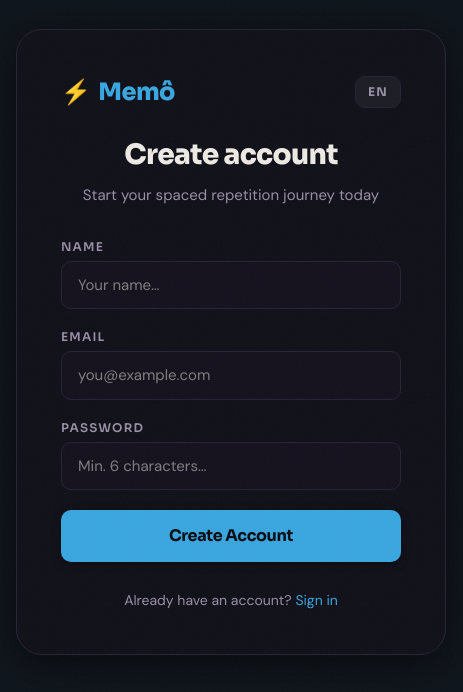
RegisterPage › shows email validation error for invalid email
Type "John" into the field labelled "Name" at point(231, 285), box [61, 260, 401, 309]
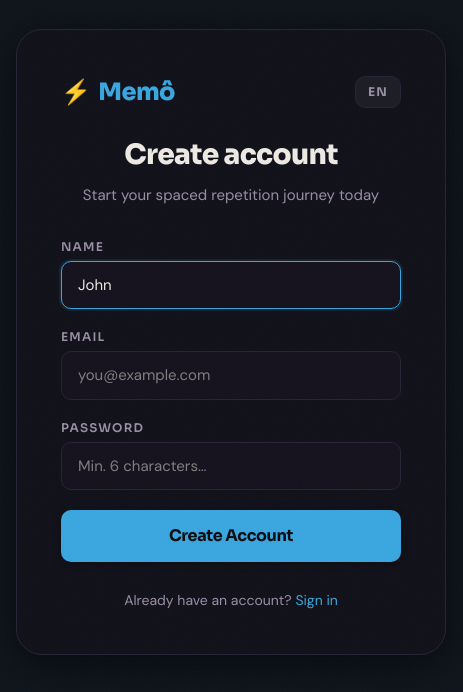
Type "bad-email" into the field labelled "Email" at point(231, 375), box [61, 351, 401, 400]
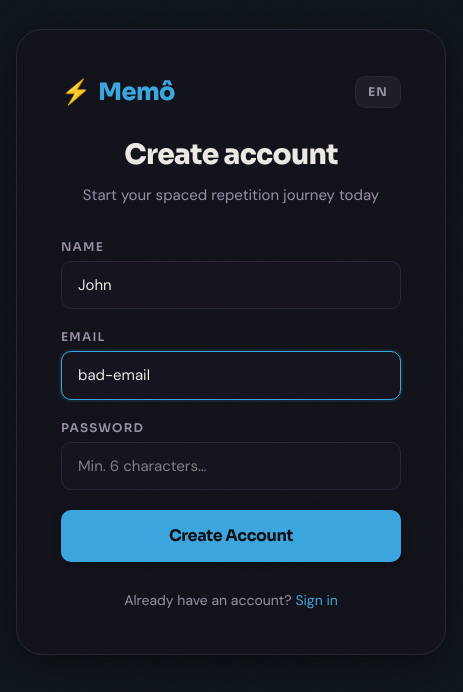
Type "123456" into the password field labelled "Password" at point(231, 466), box [61, 442, 401, 490]
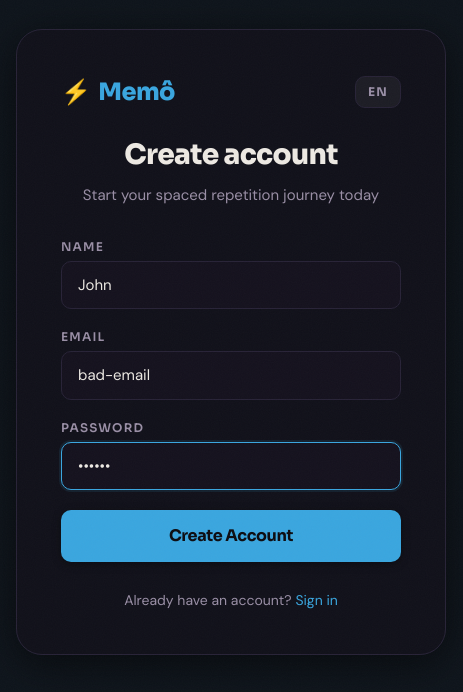
Click the button "Create Account" at point(231, 536), box [61, 510, 401, 562]
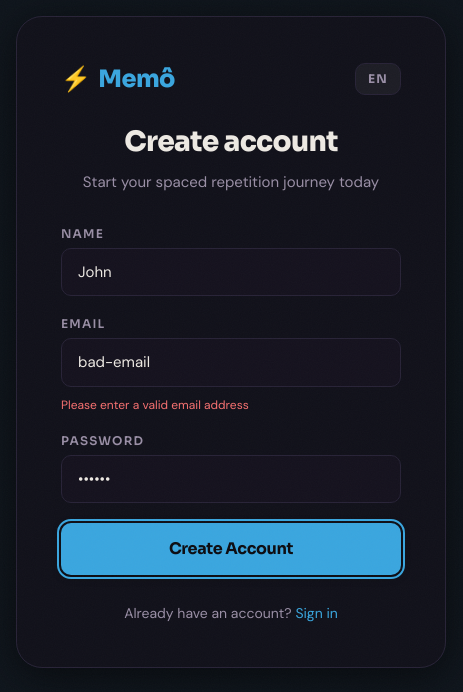
Check: the text "Please enter a valid email address" is shown, box [61, 396, 249, 412]
